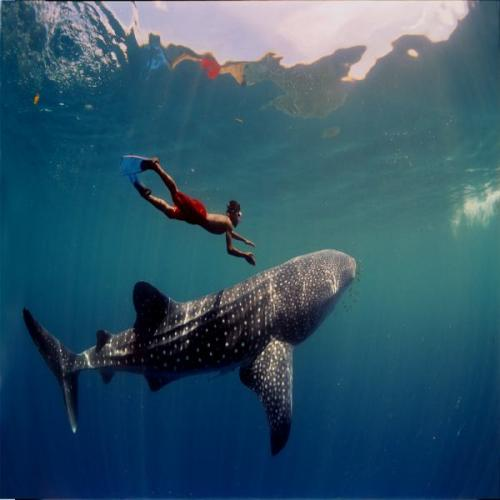shark-endangered: (20, 250, 356, 458)
